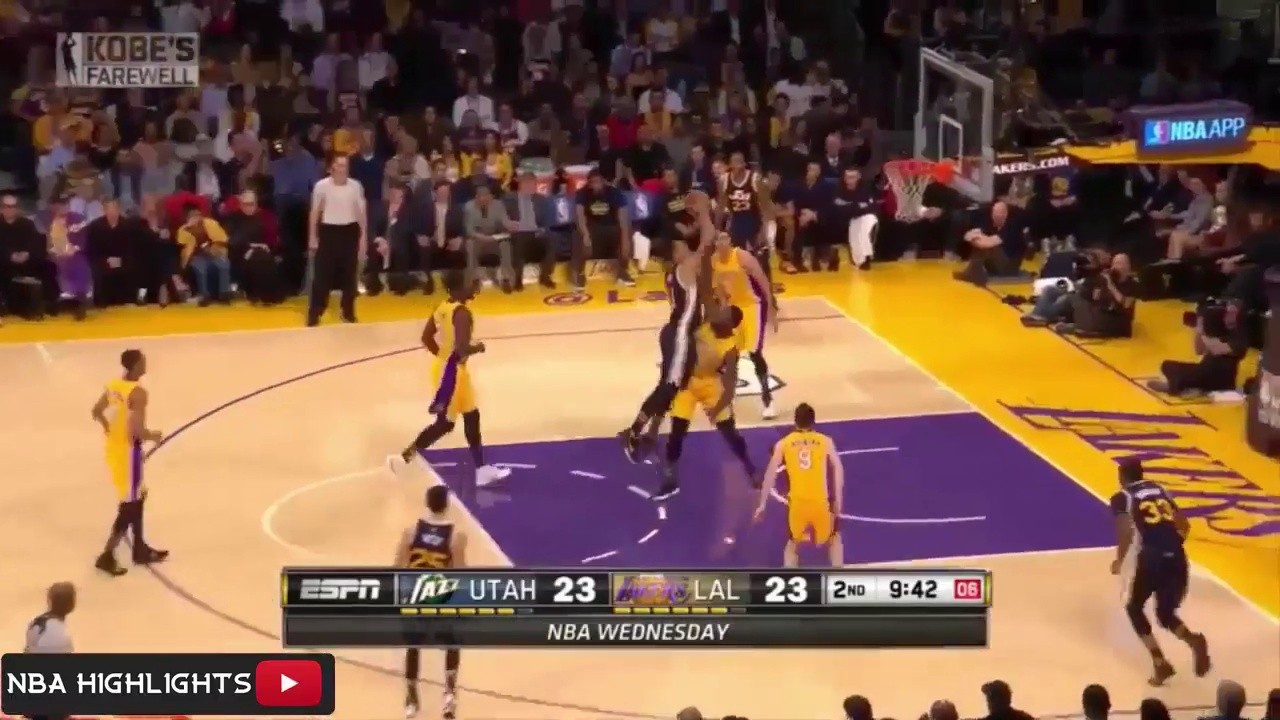jazz: (1093, 443, 1223, 681), (631, 193, 712, 458), (399, 480, 466, 720), (721, 151, 782, 291)
lakers: (397, 261, 511, 475), (88, 337, 169, 568), (669, 294, 757, 495), (757, 387, 850, 568), (717, 234, 786, 412)
